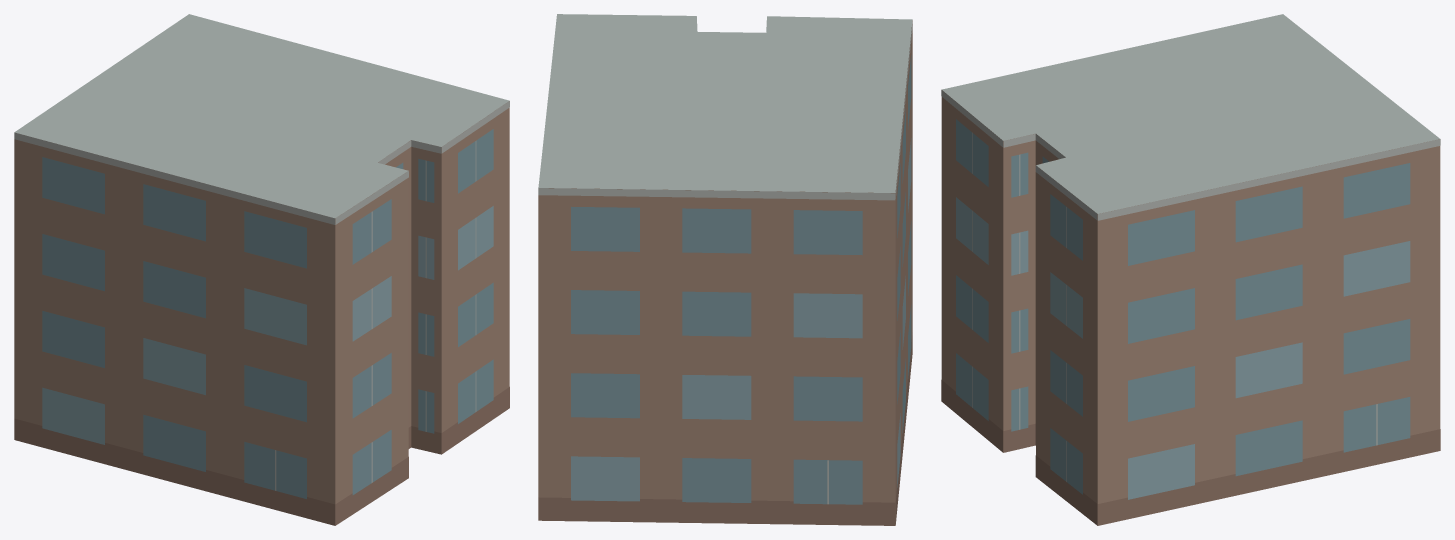
The model's file is survey-upis-33028598.glb.
The picture shows the model from 3 angles, left to right: view 1: azimuth 30°, elevation 25°; view 2: azimuth 150°, elevation 25°; view 3: azimuth 270°, elevation 25°; orthographic projection. The views are drawn at different scales.
Parts seen in each view (by area): view 1: survey-upis-33028598.tmp; view 2: survey-upis-33028598.tmp; view 3: survey-upis-33028598.tmp.
Boxes of the visible parts, <box> form: survey-upis-33028598.tmp: <box>14,14,509,525</box>; survey-upis-33028598.tmp: <box>538,14,912,525</box>; survey-upis-33028598.tmp: <box>941,14,1440,525</box>.
Bounding box in the file's own units: 15.28 × 11.1 × 16.1.
